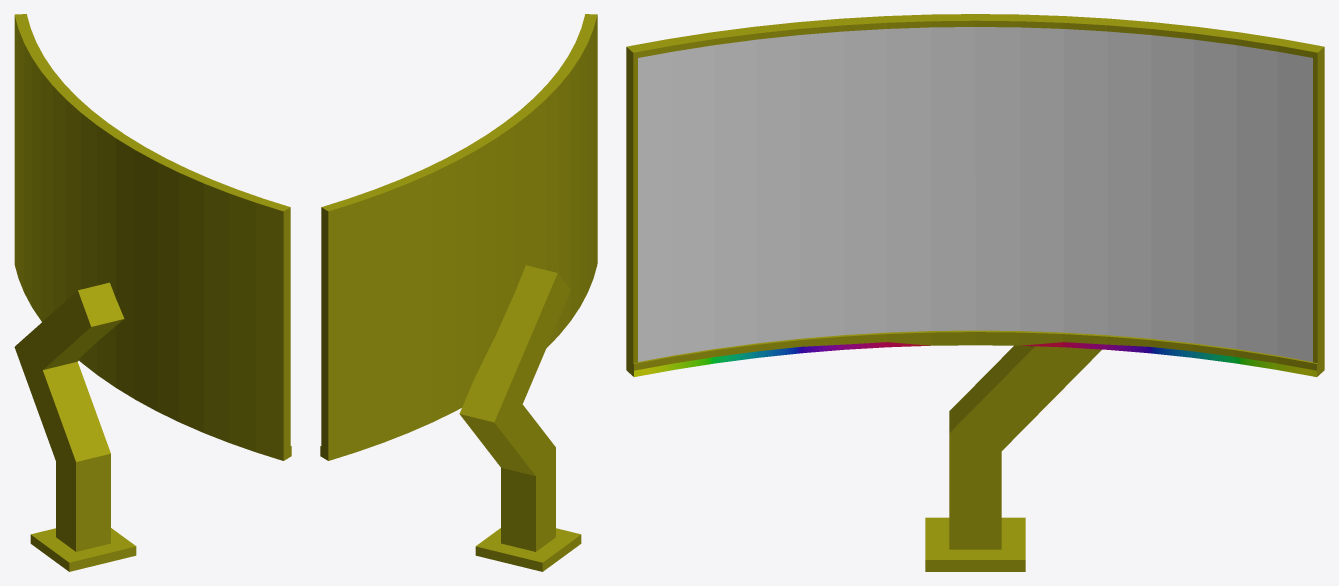
The model's file is monitorGold.fbx.
3 views of the same model, side by side, from view 1: azimuth 30°, elevation 25°; view 2: azimuth 150°, elevation 25°; view 3: azimuth 270°, elevation 25° (orthographic). The views are drawn at different scales.
Parts seen in each view (by area): view 1: Frame, Leg; view 2: Frame, Leg; view 3: Screen, Frame, Leg.
Boxes of the visible parts, x1,y1,x2,y2 form: Frame: [14, 14, 291, 460]; Leg: [14, 282, 136, 571]; Frame: [320, 14, 597, 460]; Leg: [459, 265, 581, 571]; Screen: [638, 27, 1312, 361]; Frame: [626, 14, 1324, 377]; Leg: [925, 345, 1101, 571].
Bounding box in the file's own units: 0.9218 × 3.91 × 3.37.
